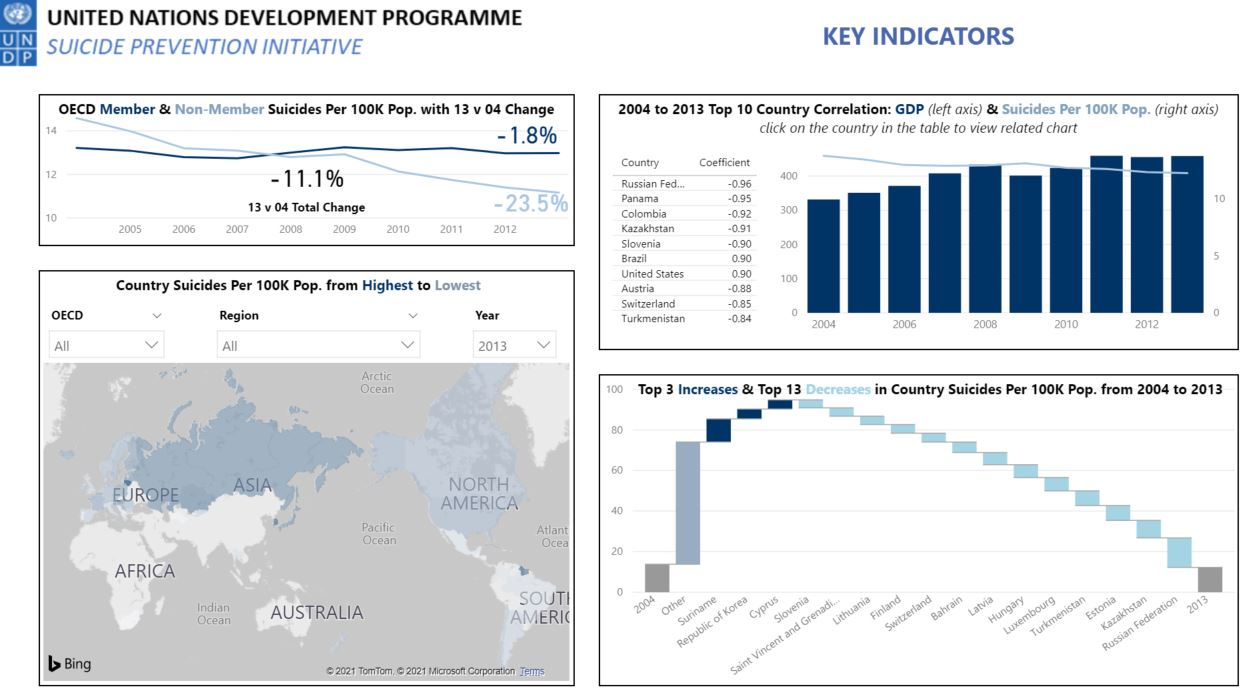

This screenshot's page, from the dashboard's own definition file:
{"tool":"powerbi","page":{"name":"KEY INDICATORS","canvas":[1280,720],"ordinal":0},"visuals":[{"type":"card","title":"13v14","fields":{"Values":["TBL_MEASURES.suicides_per_100K_pop_prior_year_9_chg"]},"box":[488,168,88,72],"z":1000},{"type":"basicShape","box":[600,96,640,256],"z":2000},{"type":"basicShape","box":[40,272,536,416],"z":3000},{"type":"textbox","box":[40,96,536,48],"z":4000},{"type":"textbox","box":[48,272,504,32],"z":5000},{"type":"textbox","box":[600,16,640,48],"z":6000},{"type":"lineChart","title":"OECD Total Suicides Per 100K Population","fields":{"Category":["DIM_YEAR_ORIGINAL.Date.Variation.Date Hierarchy.Year"],"Y":["TBL_MEASURES.suicides_per_100K_pop"],"Series":["TBL_COUNTRIES.OECD_member"]},"box":[40,96,536,152],"z":7000},{"type":"filledMap","fields":{"Category":["TBL_COUNTRIES.country_code"]},"box":[40,360,536,328],"z":8000},{"type":"slicer","fields":{"Values":["DIM_YEAR_ORIGINAL.Date.Variation.Date Hierarchy.Year"]},"box":[464,304,104,64],"z":9000},{"type":"slicer","fields":{"Values":["TBL_COUNTRIES.OECD_member"]},"box":[40,304,136,64],"z":10000},{"type":"slicer","fields":{"Values":["TBL_COUNTRIES.country_region"]},"box":[208,304,224,64],"z":11000},{"type":"lineStackedColumnComboChart","fields":{"Category":["DIM_YEAR_ORIGINAL.Date.Variation.Date Hierarchy.Year"],"Y2":["TBL_MEASURES.suicides_per_100K_pop"],"Y":["TBL_MEASURES.gdp_per_capita"]},"box":[776,144,456,200],"z":12000},{"type":"tableEx","fields":{"Values":["TBL_MEASURES.correlation_coefficient_abs","TBL_COUNTRIES.country_name","TBL_MEASURES.correlation_coefficient_value"]},"box":[608,152,160,192],"z":13000},{"type":"textbox","box":[608,96,624,48],"z":14000},{"type":"waterfallChart","title":"2013 Suicides Per 100K & Prior Year Change","fields":{"Breakdown":["TBL_COUNTRIES.country_name"],"Category":["DIM_YEAR_ORIGINAL.date.Variation.Date Hierarchy.Year"],"Y":["TBL_MEASURES.suicides_per_100K_pop"]},"box":[600,376,640,312],"z":15000},{"type":"card","title":"13v14","fields":{"Values":["TBL_MEASURES.suicides_per_100K_pop_prior_year_9_chg"]},"box":[240,152,136,72],"z":16000},{"type":"card","title":"13v14","fields":{"Values":["TBL_MEASURES.suicides_per_100K_pop_prior_year_9_chg"]},"box":[488,100,80,72],"z":16500},{"type":"textbox","box":[624,376,616,40],"z":17000}]}

Visuals, with their boxes in screenshot pixels (x1, y1, x2, y2), scaled from the page's 1280x720 canvas onto the 1257x697 screenshot:
"13v14" card: [479, 163, 566, 232]
basicShape: [589, 93, 1218, 341]
basicShape: [39, 263, 566, 666]
textbox: [39, 93, 566, 139]
textbox: [47, 263, 542, 294]
textbox: [589, 15, 1218, 62]
"OECD Total Suicides Per 100K Population" lineChart: [39, 93, 566, 240]
filledMap - TBL_COUNTRIES.country_code: [39, 348, 566, 666]
slicer - DIM_YEAR_ORIGINAL.Date.Variation.Date Hierarchy.Year: [456, 294, 558, 356]
slicer - TBL_COUNTRIES.OECD_member: [39, 294, 173, 356]
slicer - TBL_COUNTRIES.country_region: [204, 294, 424, 356]
lineStackedColumnComboChart - DIM_YEAR_ORIGINAL.Date.Variation.Date Hierarchy.Year x TBL_MEASURES.suicides_per_100K_pop: [762, 139, 1210, 333]
tableEx - TBL_MEASURES.correlation_coefficient_abs x TBL_COUNTRIES.country_name: [597, 147, 754, 333]
textbox: [597, 93, 1210, 139]
"2013 Suicides Per 100K & Prior Year Change" waterfallChart: [589, 364, 1218, 666]
"13v14" card: [236, 147, 369, 217]
"13v14" card: [479, 97, 558, 167]
textbox: [613, 364, 1218, 403]
